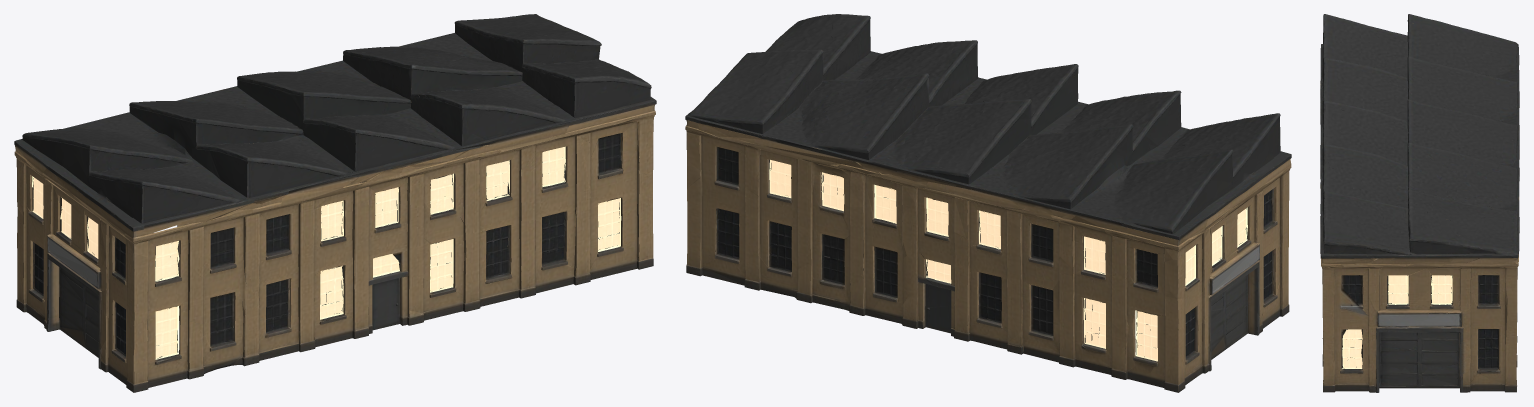
File: warehouse-sawtooth.glb
The picture shows the model from 3 angles, left to right: view 1: azimuth 30°, elevation 25°; view 2: azimuth 150°, elevation 25°; view 3: azimuth 270°, elevation 25°; orthographic projection. The views are drawn at different scales.
Parts seen in each view (by area): view 1: Mesh_0; view 2: Mesh_0; view 3: Mesh_0.
Part boxes in pixels (left/top/right/bottom): Mesh_0: left=14, top=14, right=656, bottom=392; Mesh_0: left=685, top=14, right=1291, bottom=392; Mesh_0: left=1320, top=14, right=1519, bottom=392.
Bounding box in the file's own units: 23.57 × 9 × 9.37.
Materials: 4 (4 with a texture image).
